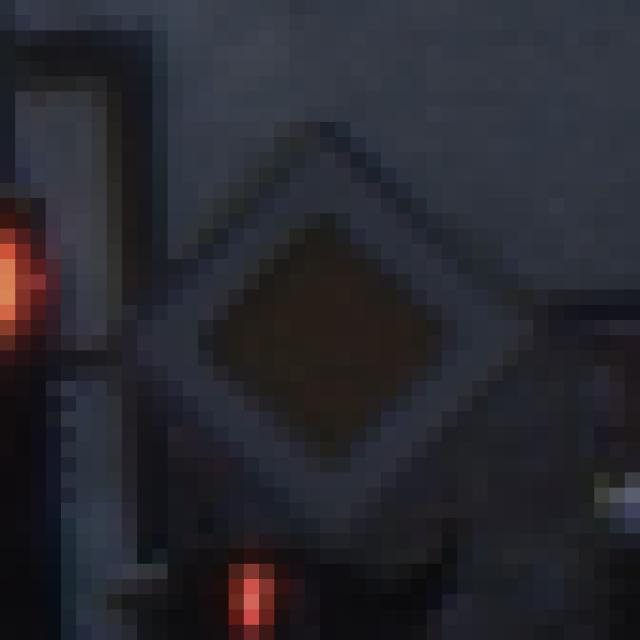Main Road: (92, 92, 565, 565)
